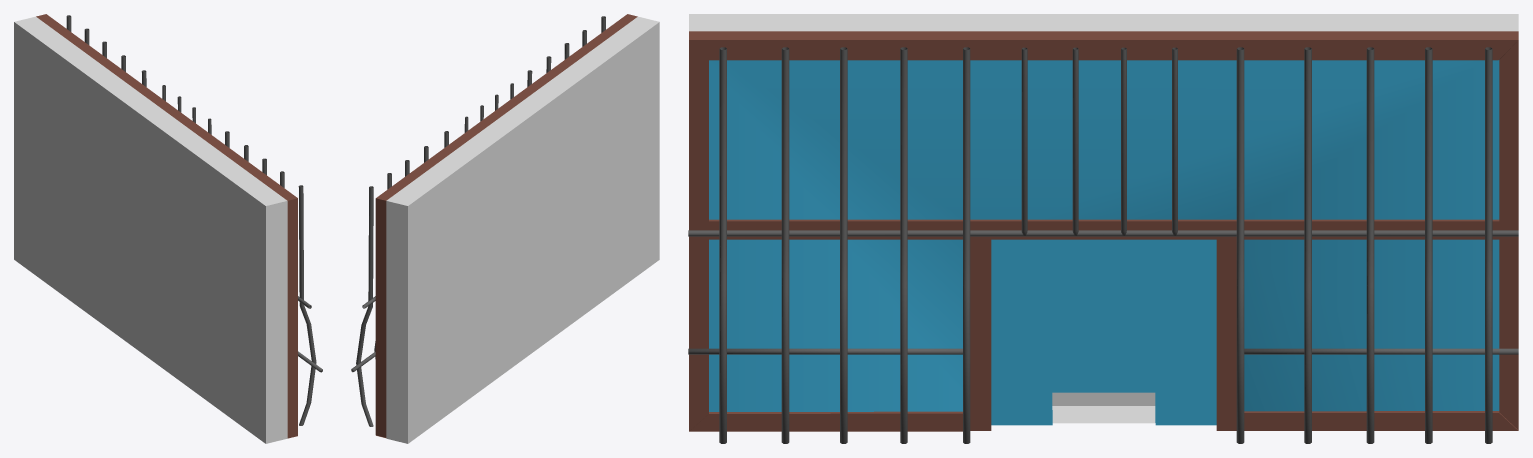
File: Showcase.fbx
3 renders of one model, left to right at view 1: azimuth 30°, elevation 25°; view 2: azimuth 150°, elevation 25°; view 3: azimuth 270°, elevation 25°, orthographic. The views are drawn at different scales.
Visible parts, largest first — view 1: Cube.006; view 2: Cube.006; view 3: Cube.006.
Part boxes in pixels (bbox=[...]): Cube.006: bbox=[14, 14, 322, 443]; Cube.006: bbox=[351, 14, 659, 443]; Cube.006: bbox=[688, 14, 1518, 443].
Size of the model in its own units: 55.69 by 210 by 402.
